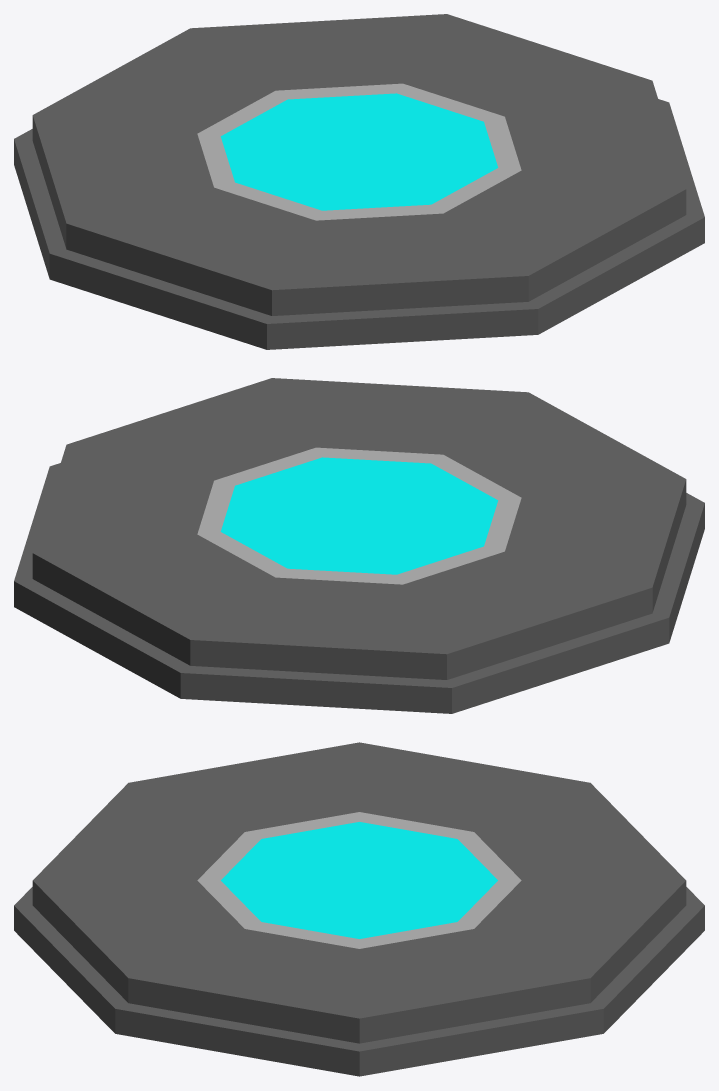
File: M_MR_Floor.fbx
3 views of the same model, one above another, from view 1: azimuth 30°, elevation 25°; view 2: azimuth 150°, elevation 25°; view 3: azimuth 270°, elevation 25° (orthographic). The views are drawn at different scales.
Parts seen in each view (by area): view 1: M_MR_Floor; view 2: M_MR_Floor; view 3: M_MR_Floor.
Part boxes in pixels (bbox=[...]): M_MR_Floor: bbox=[14, 14, 704, 349]; M_MR_Floor: bbox=[14, 378, 704, 713]; M_MR_Floor: bbox=[14, 742, 704, 1076].
Size of the model in its own units: 50 by 4 by 50.
